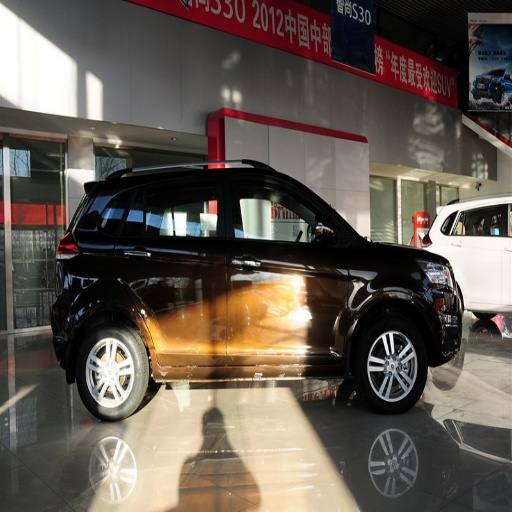back_right_door: (119, 182, 225, 364)
front_right_door: (226, 179, 350, 354)
